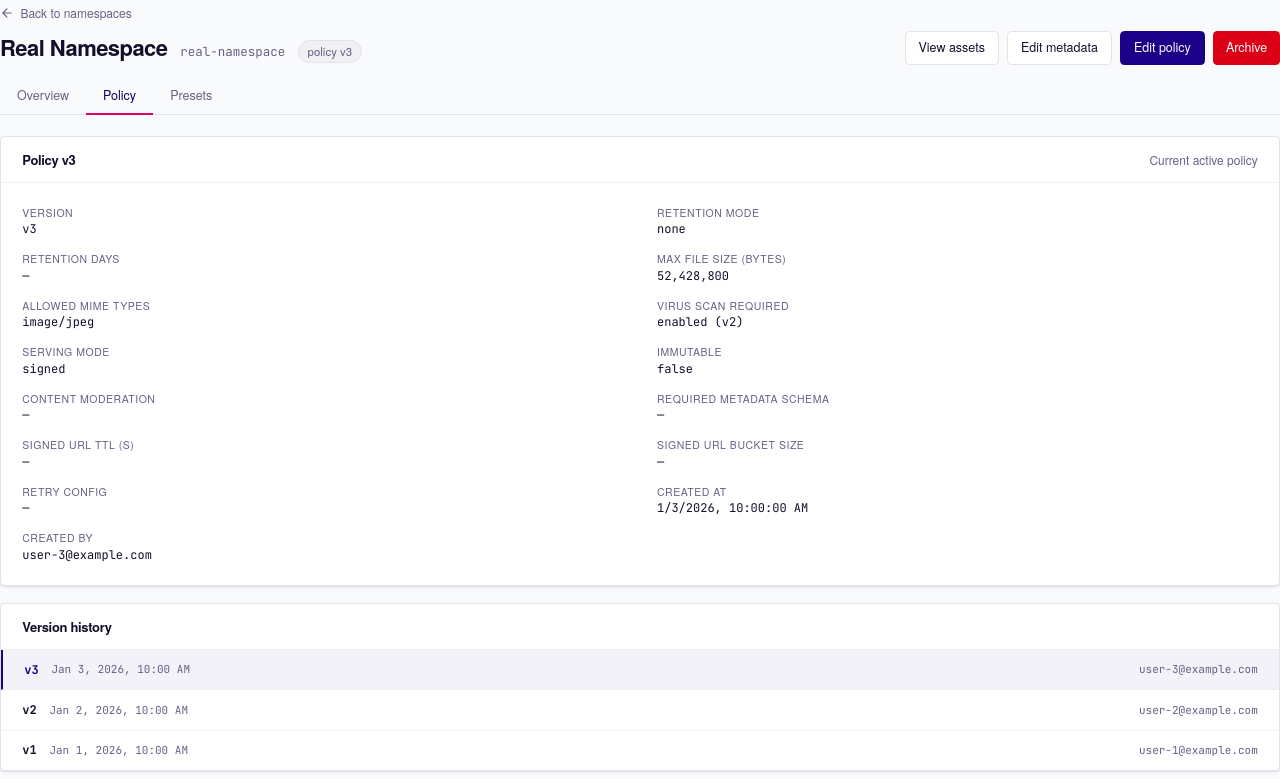
NamespaceDetailPage — real namespace policy tab › replaces the policy panel with the selected version's values when a past version is clicked
# Click v1 in the version history
Click the button "v1 Jan 1, 2026, 10:00 AM user-1@example.com" at (119, 750), box [1, 730, 1279, 770]
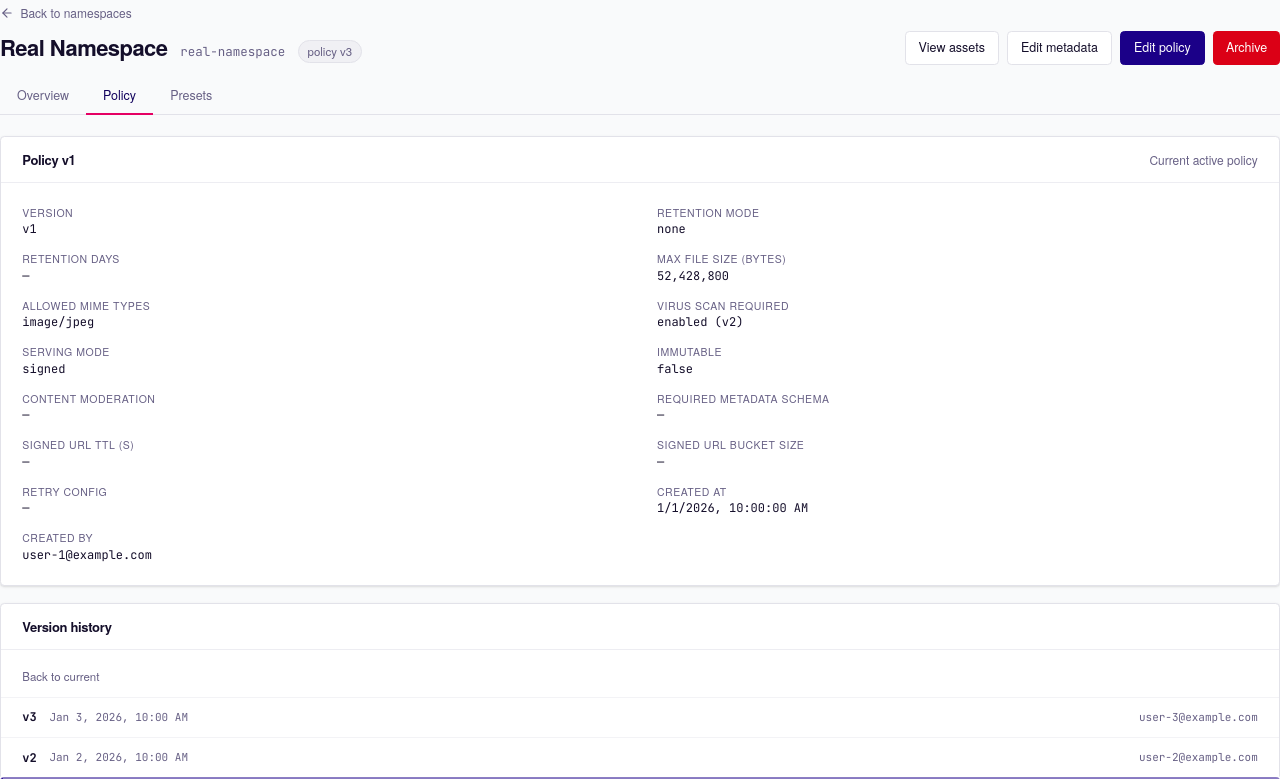
Expected: the button "Back to current" is shown, [22, 668, 100, 685]
